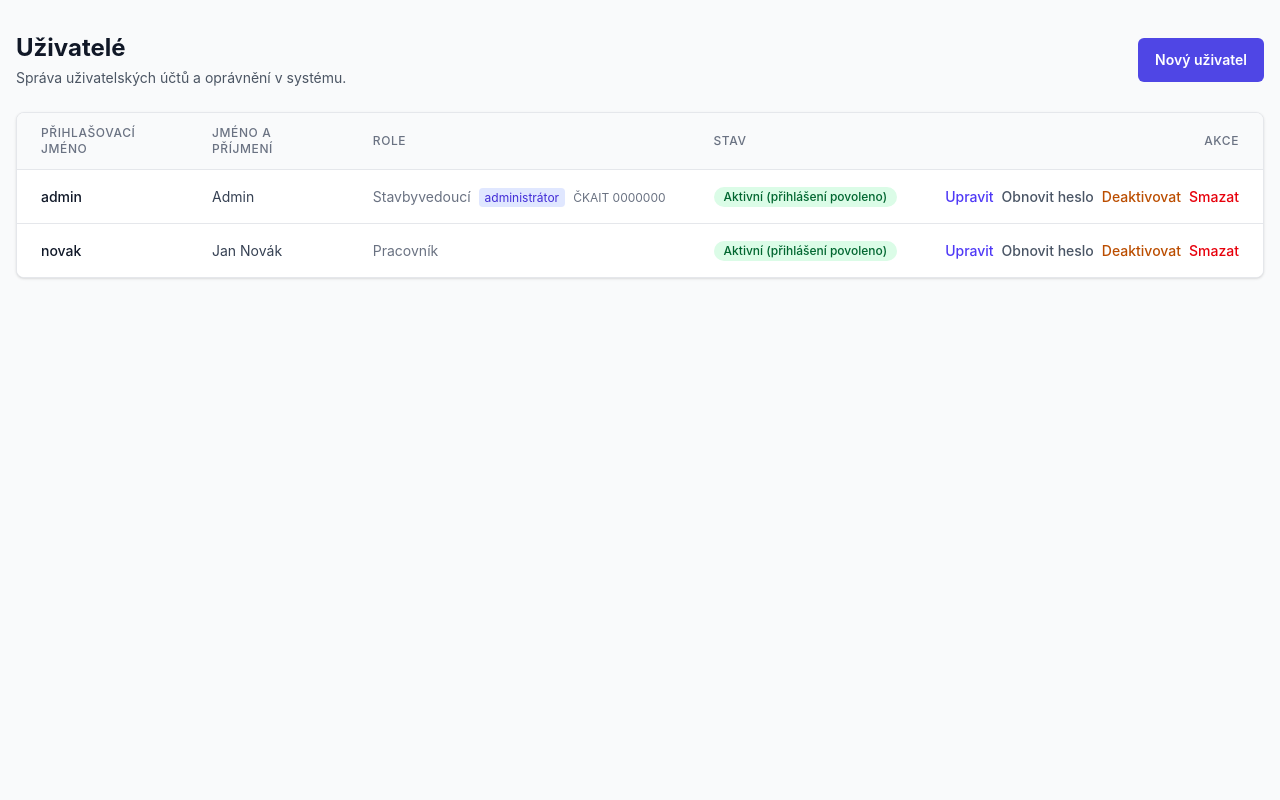
Test: the temporary password of a new account › is asked about before a form with typed text is closed, and the answer 'write on' keeps it
Expected: the text "Jan Novák" is shown, [188,224,349,277]
Click the button "Nový uživatel": (1201, 60) [1138,38,1264,82]
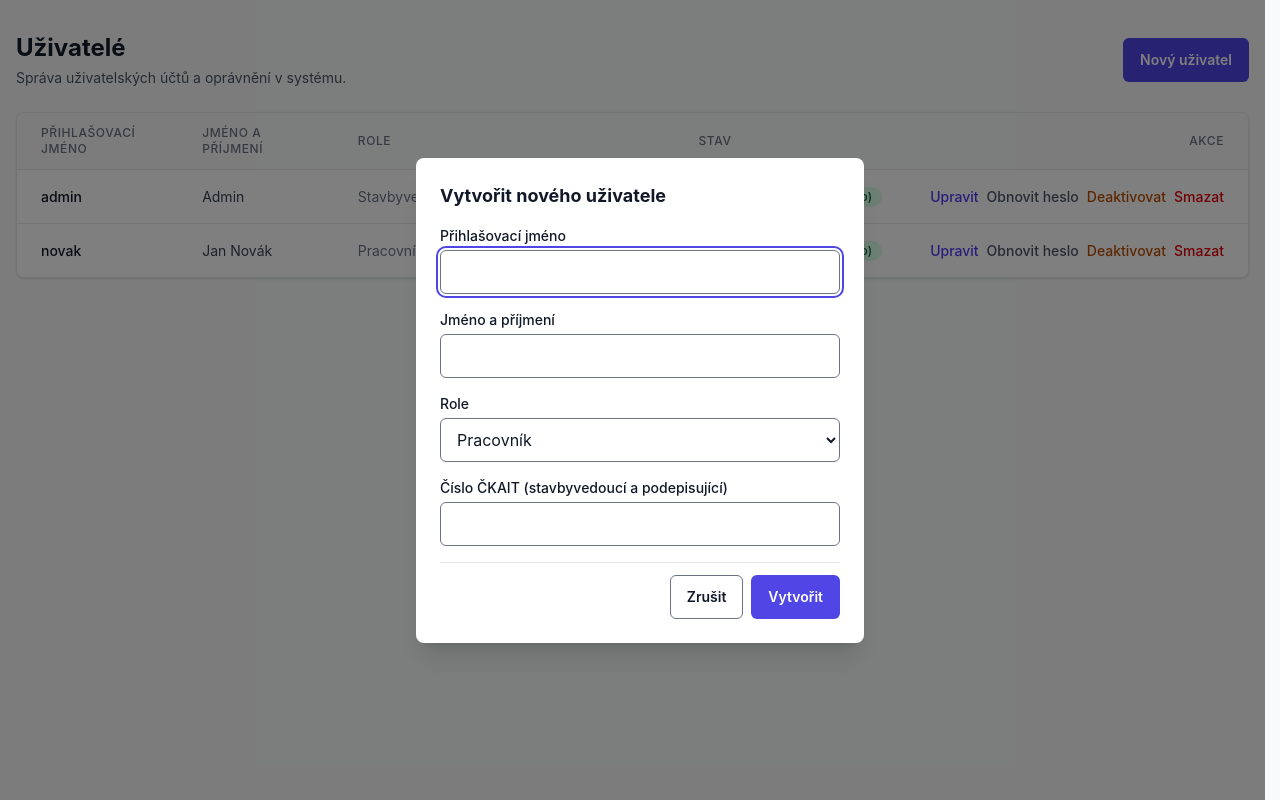
In the field labelled "Přihlašovací jméno": (640, 272) [440,250,840,294], type "rozepsane"
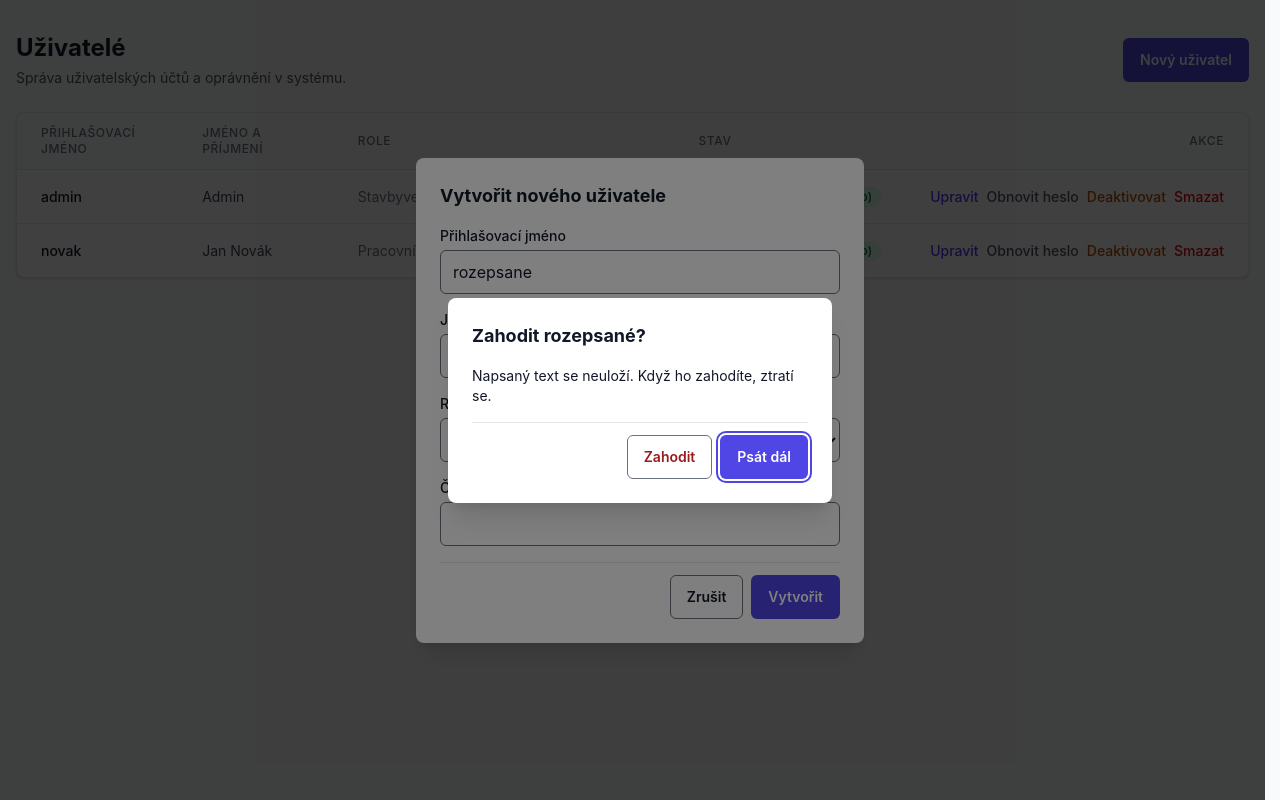
Click the button "Psát dál": (764, 456) [720,434,808,478]
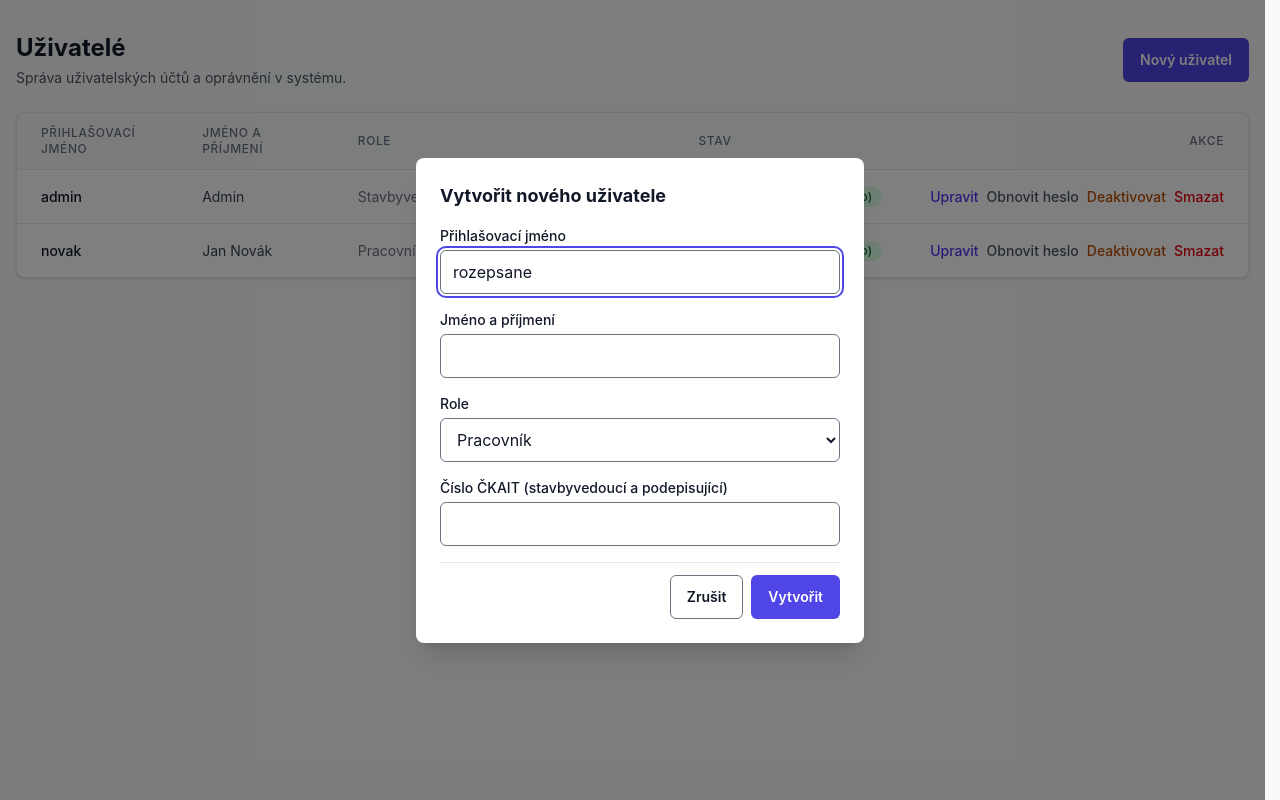
Click the button "Zrušit": (707, 596) [670,574,743,618]
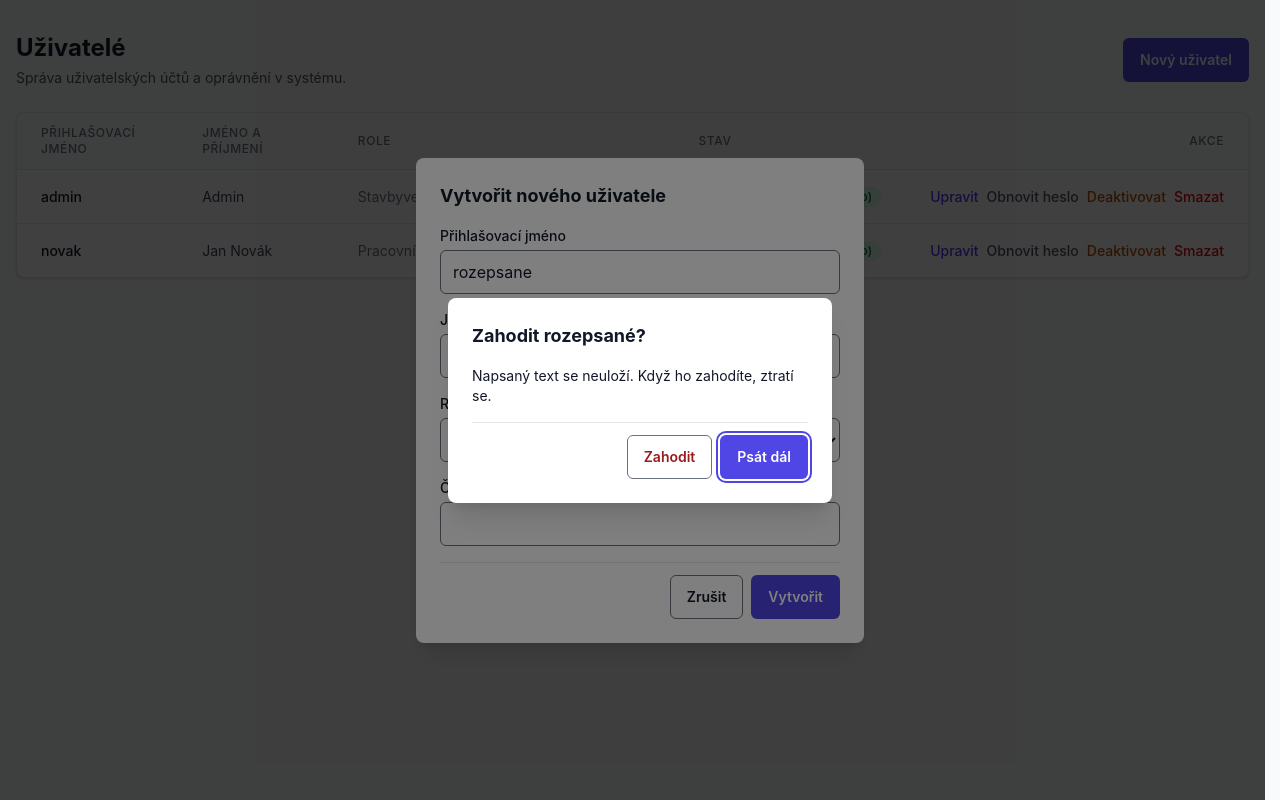
Click the button "Zahodit": (670, 456) [627,434,712,478]
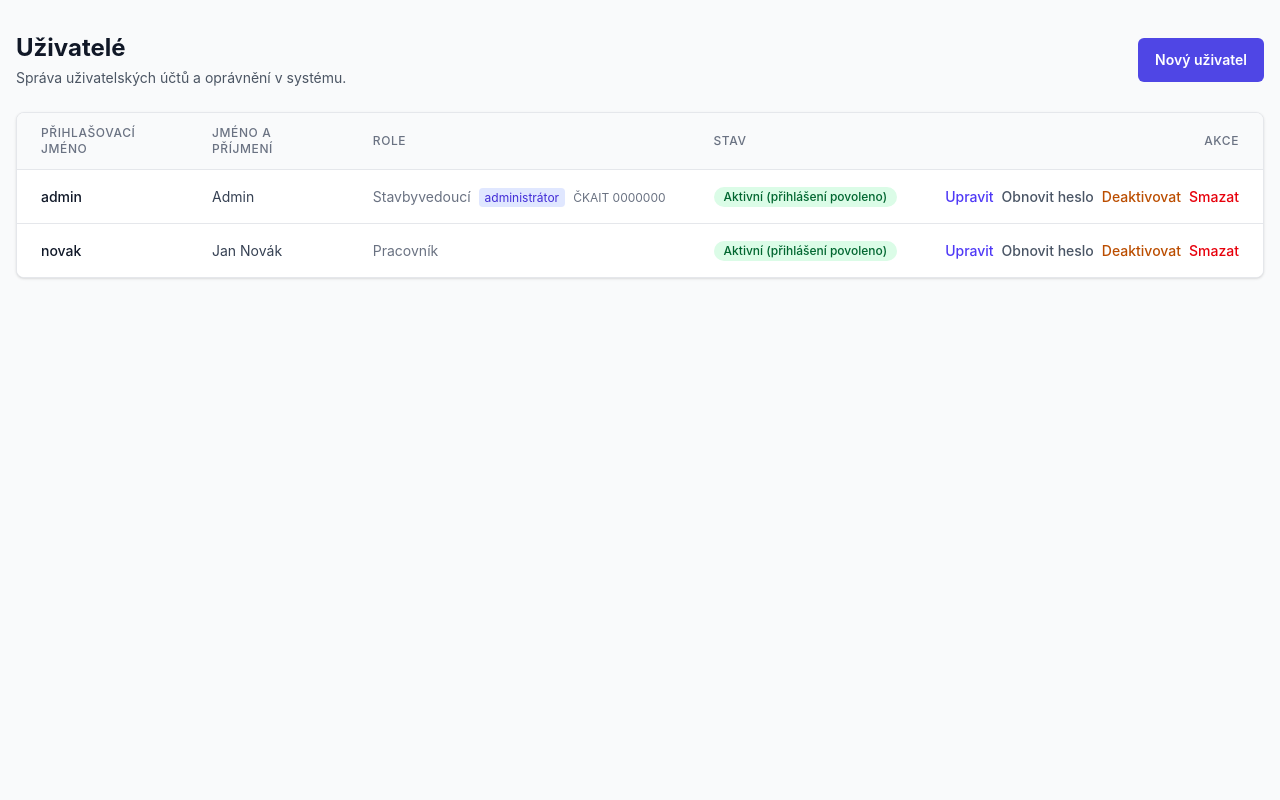
Expected: the dialog is gone
